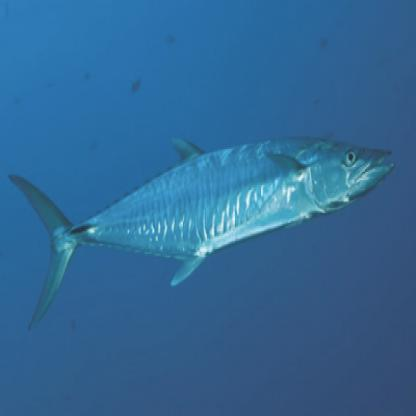Scombridae -Tunas-: (7, 129, 402, 340)
